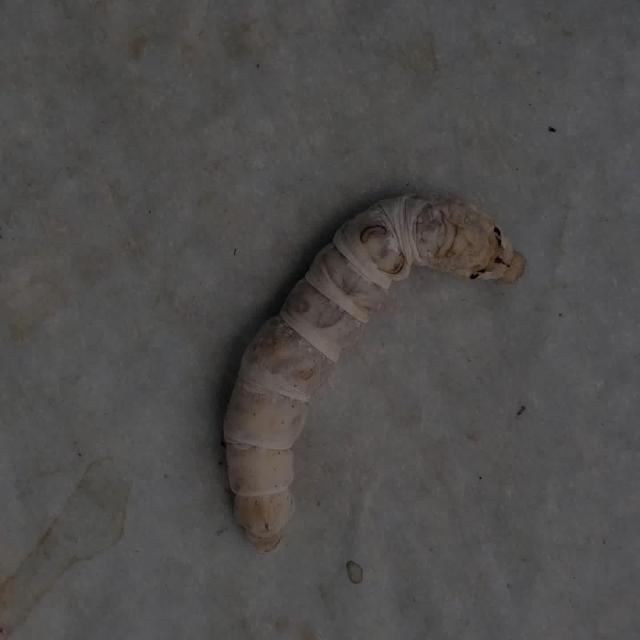Grasserie: (210, 167, 541, 562)
